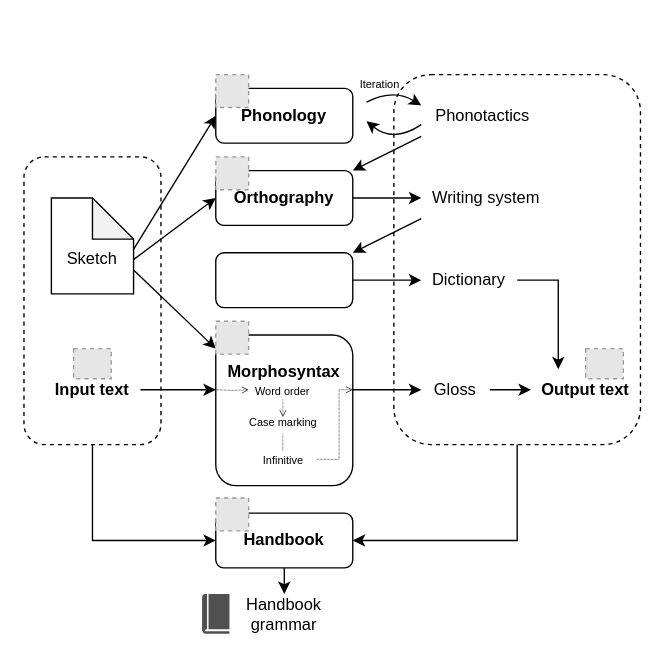
Some shapes in this 664 by 659 pixel diagram are drawn without their labels. Grey dashed boxes stand in for pictures. The centre of each missing label's shape, as x and y in pixels:
"Lexicon" belongs at (x=283, y=279).
"Modules" belongs at (x=283, y=53).
